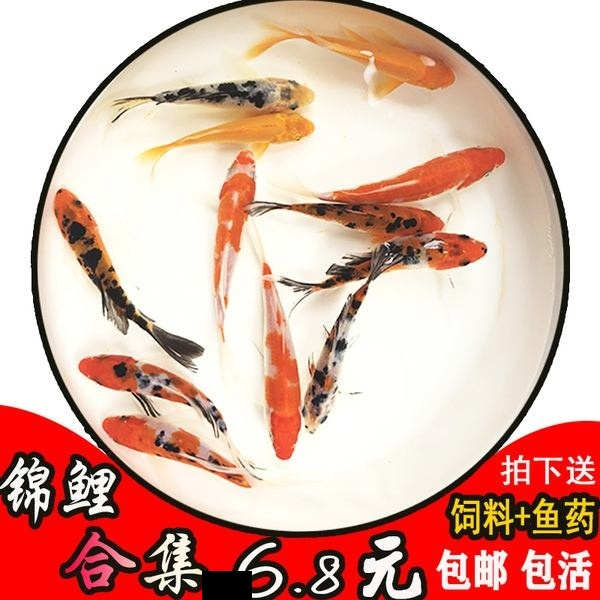fry: (51, 184, 163, 330), (308, 20, 469, 108), (107, 408, 257, 491), (248, 274, 310, 467), (343, 138, 511, 204), (303, 311, 378, 445), (81, 349, 214, 420), (199, 149, 260, 303), (144, 109, 317, 163), (339, 229, 501, 283), (133, 76, 323, 119), (306, 186, 443, 241)
